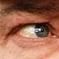eye: (35, 25, 49, 38)
